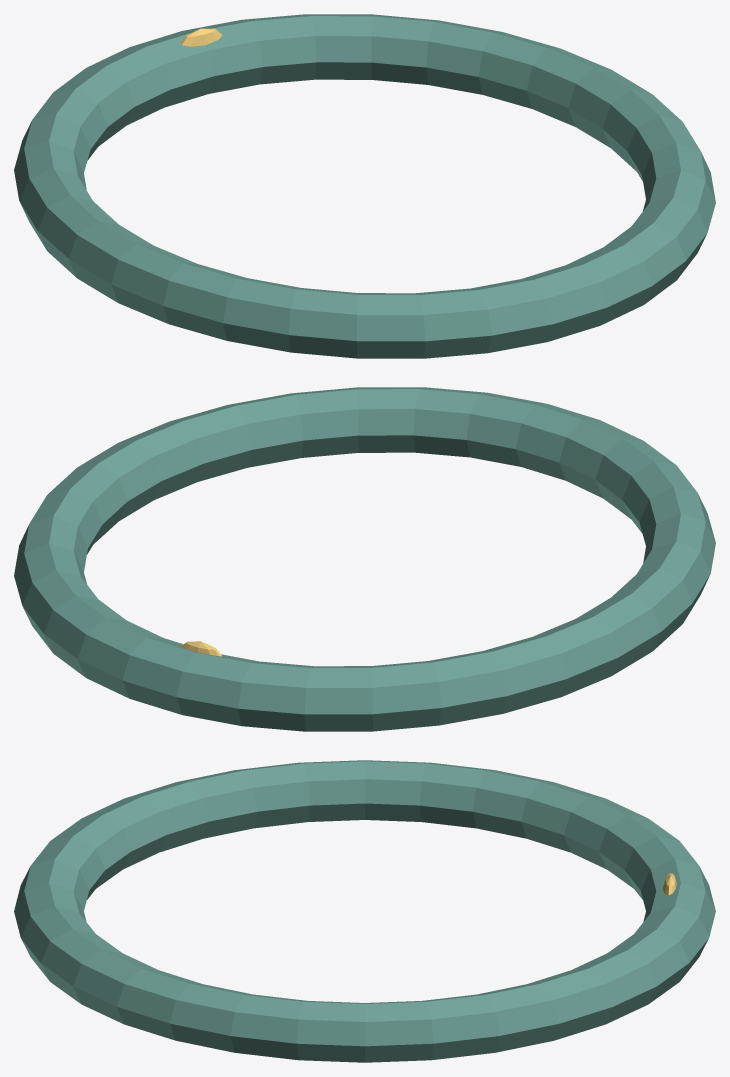
File: outfit_1_runtime.glb
3 views of the same model, one above another, from view 1: azimuth 30°, elevation 25°; view 2: azimuth 150°, elevation 25°; view 3: azimuth 270°, elevation 25° (orthographic). The views are drawn at different scales.
Visible parts, largest first — view 1: Earned hat ribbon, Achievement rosette; view 2: Earned hat ribbon; view 3: Earned hat ribbon.
Part boxes in pixels (x1,y1,x2,y2): Earned hat ribbon: (14, 14, 715, 358); Achievement rosette: (181, 28, 222, 46); Earned hat ribbon: (14, 387, 715, 731); Earned hat ribbon: (14, 760, 715, 1062).
Size of the model in its own units: 0.522 by 0.058 by 0.5742.
